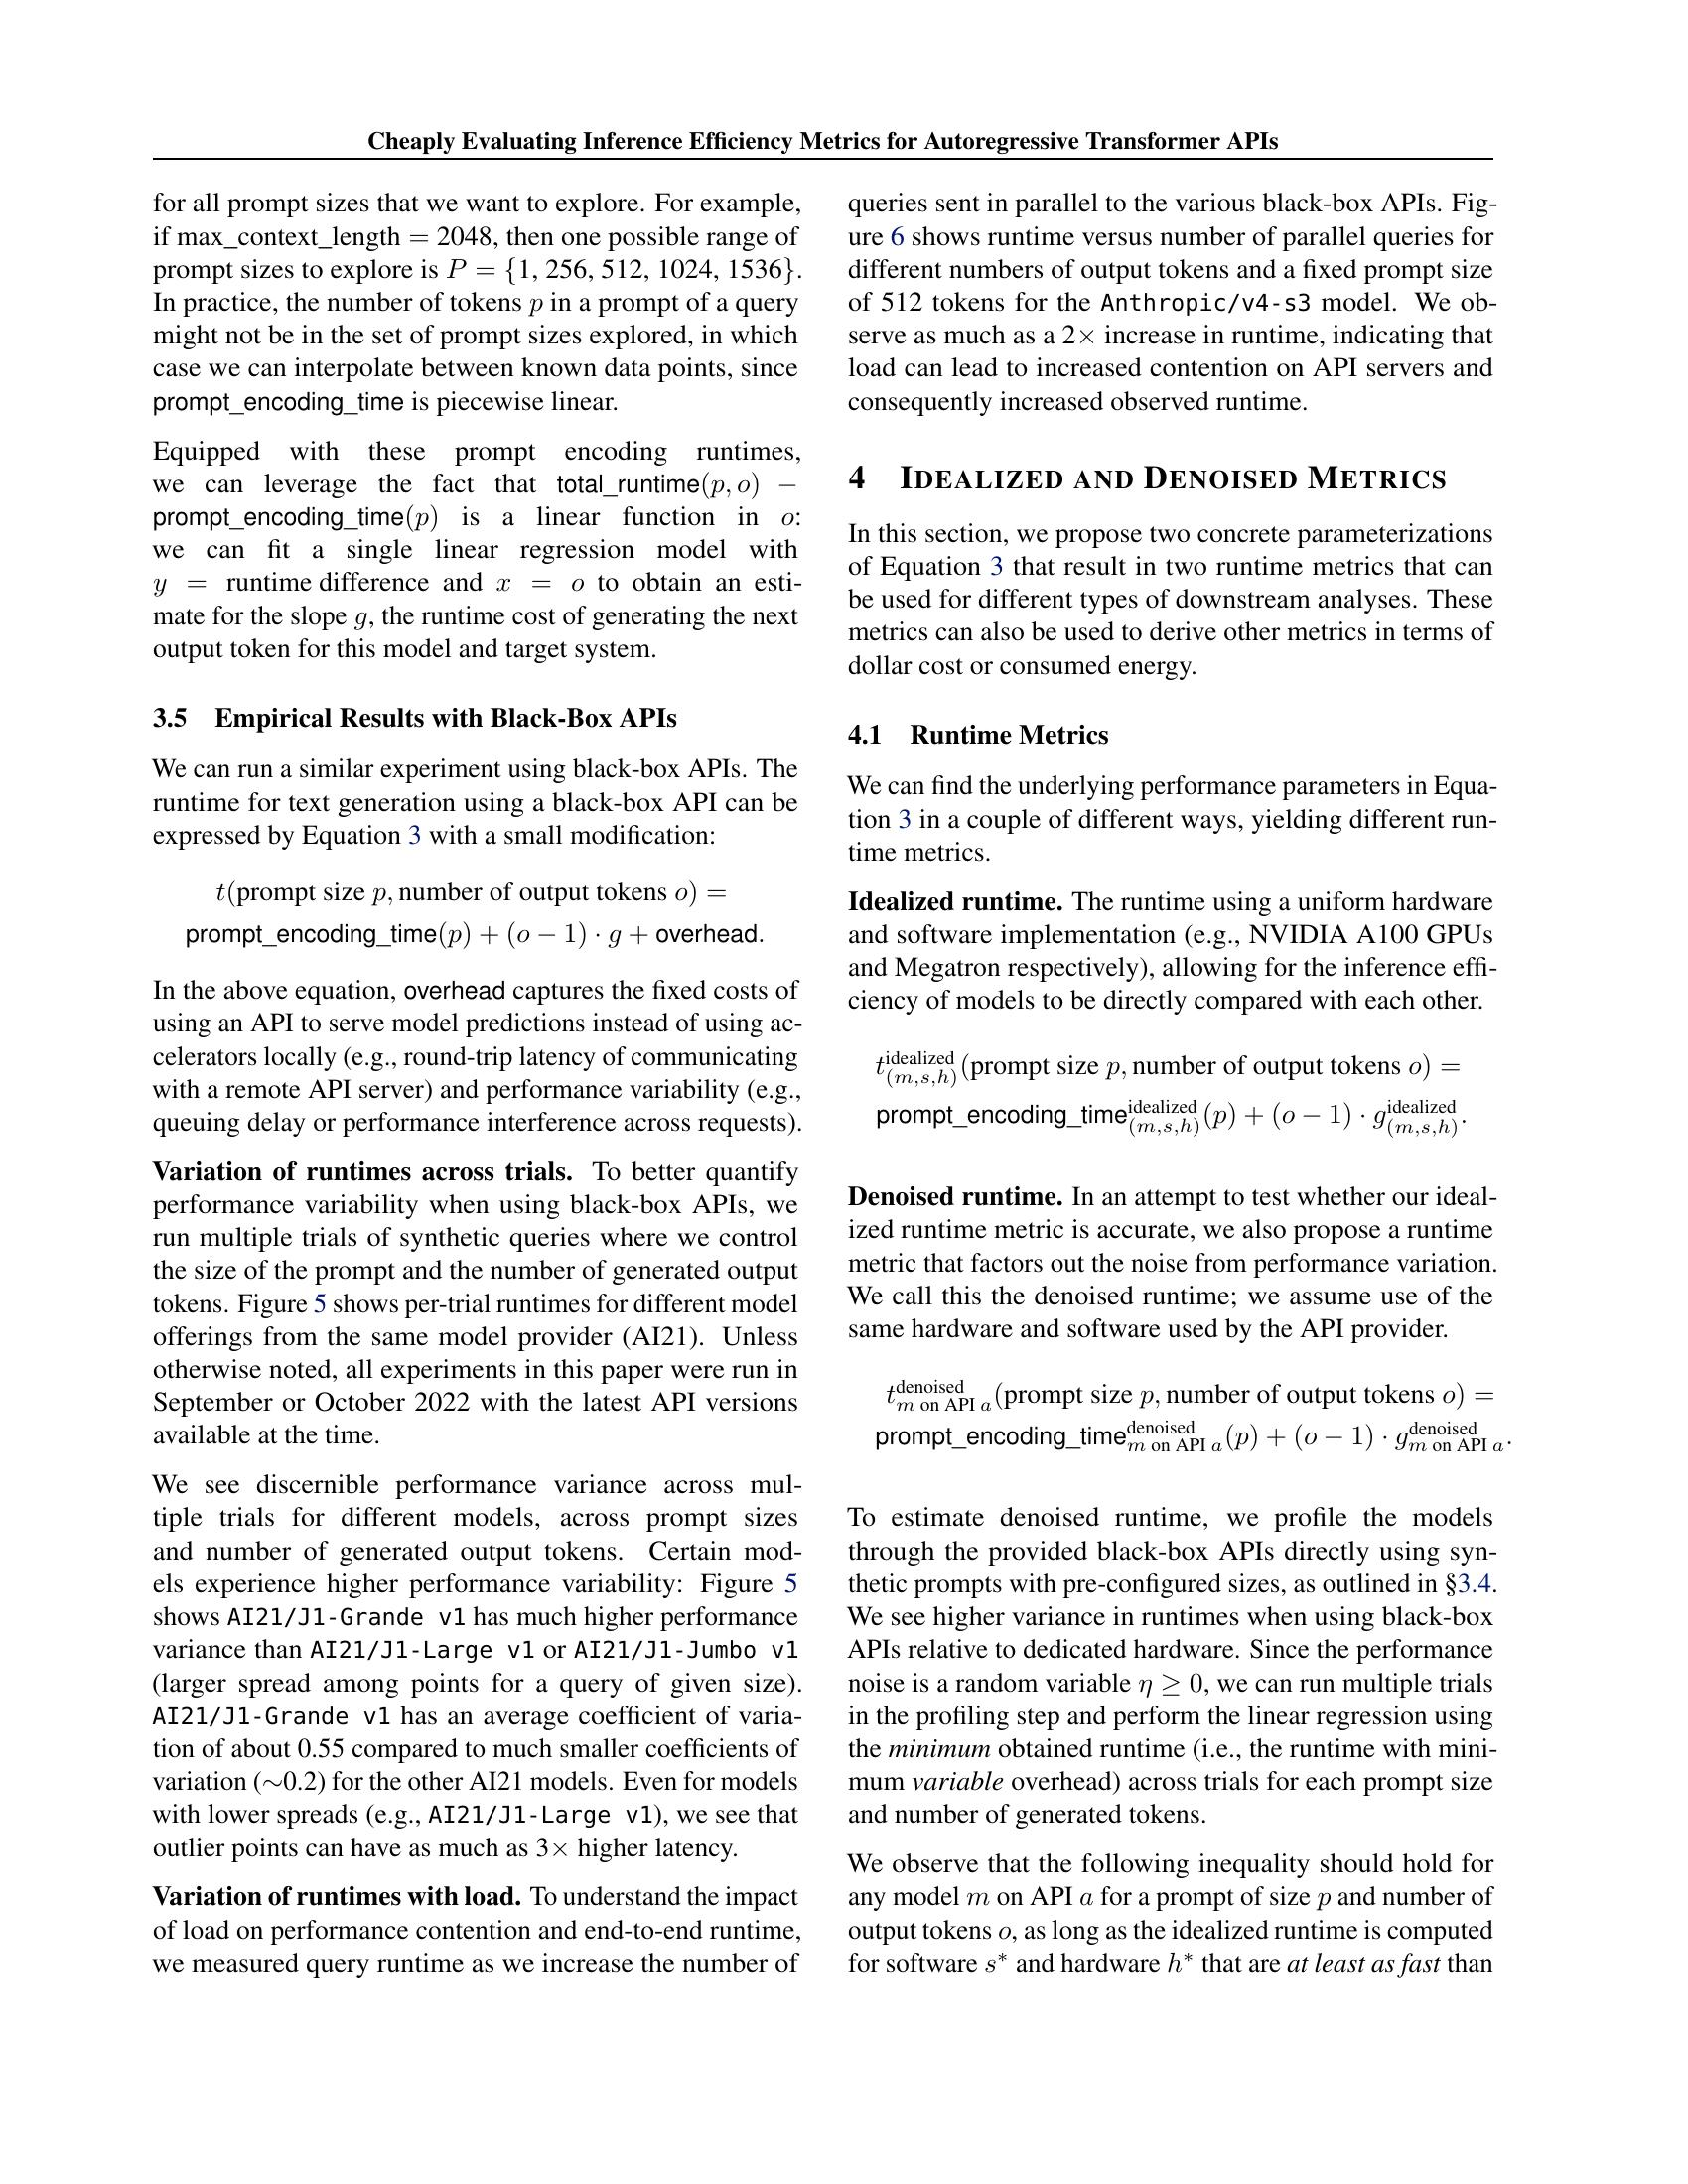text: (144, 1466, 809, 1984), (837, 183, 1505, 686), (837, 1498, 1505, 1984), (144, 183, 809, 670), (144, 695, 809, 1143), (837, 714, 1505, 1145), (144, 1152, 809, 1454), (837, 1174, 1520, 1464)
